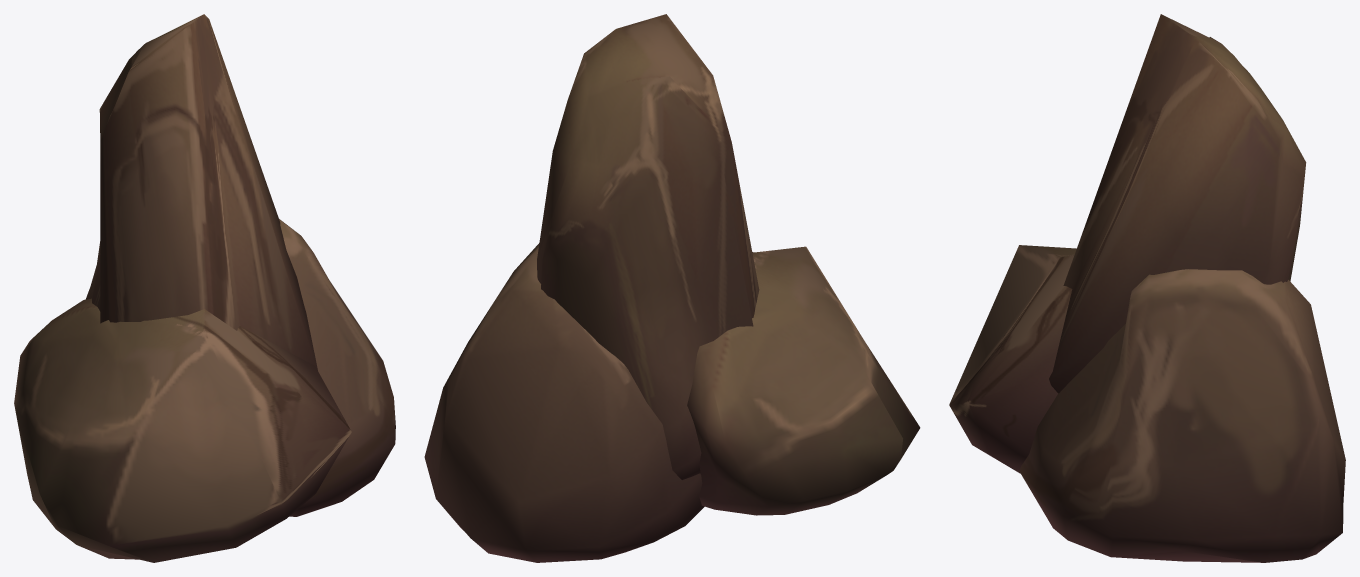
The model's file is Rock006.glb.
3 renders of one model, left to right at view 1: azimuth 30°, elevation 25°; view 2: azimuth 150°, elevation 25°; view 3: azimuth 270°, elevation 25°, orthographic. The views are drawn at different scales.
Visible parts, largest first — view 1: Cube.006; view 2: Cube.006; view 3: Cube.006.
Boxes of the visible parts, x1,y1,x2,y2 form: Cube.006: (14,14,395,562); Cube.006: (424,14,920,562); Cube.006: (949,14,1345,562).
Size of the model in its own units: 0.8558 by 1.06 by 0.7657.
1 material, 1 textured.
